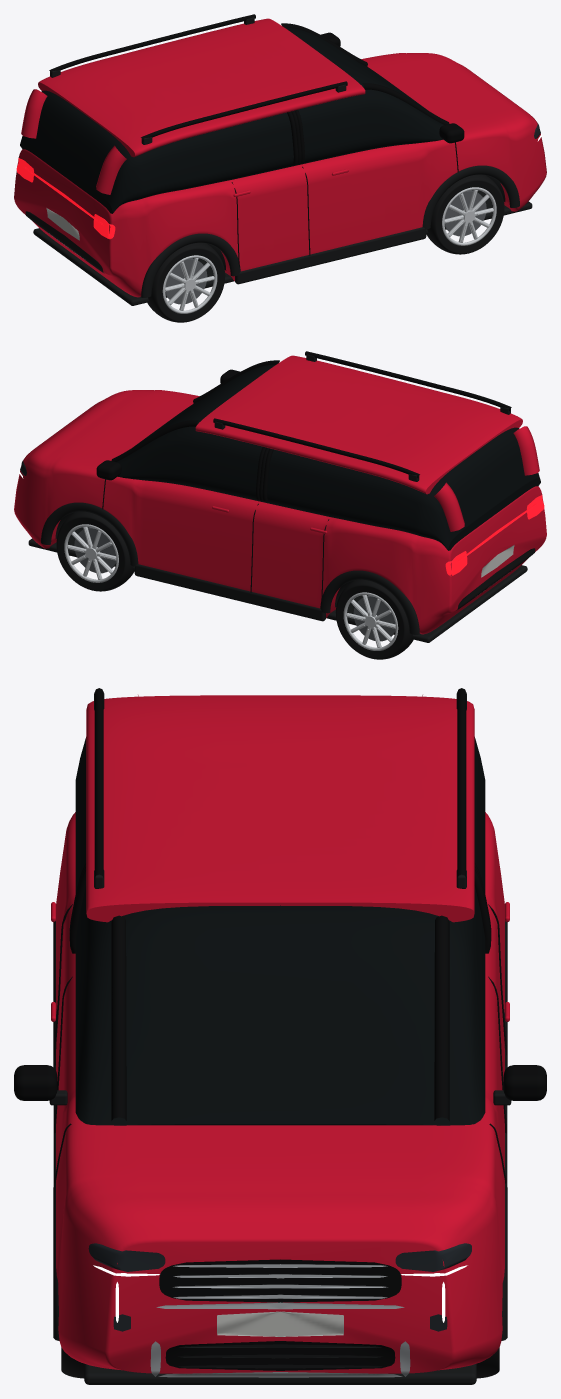
File: kia-sonet.glb
3 views of the same model, one above another, from view 1: azimuth 30°, elevation 25°; view 2: azimuth 150°, elevation 25°; view 3: azimuth 270°, elevation 25° (orthographic). The views are drawn at different scales.
Parts seen in each view (by area): view 1: Body, Glasshouse, Roof, Trim (×5), Tyre (×2), Pillar (×4), RoofRail (×2), Disc (×2), Rim (×2), GlossBlack; view 2: Body, Glasshouse, Roof, Trim (×5), Tyre (×2), Pillar (×4), RoofRail (×2), Disc (×2), Rim (×2), GlossBlack; view 3: Body, Glasshouse, Roof, GlossBlack (×4), Pillar (×2), Trim, RoofRail (×2), Plate, Headlamp (×2), Silver (×2).
Part boxes in pixels (x1=…): Body: x1=14, y1=53, x2=546, y2=297; Glasshouse: x1=20, y1=27, x2=444, y2=213; Roof: x1=38, y1=18, x2=365, y2=157; Trim (×5): x1=25, y1=165, x2=532, y2=305; Tyre (×2): x1=147, y1=174, x2=504, y2=322; Pillar (×4): x1=21, y1=23, x2=449, y2=194; RoofRail (×2): x1=49, y1=14, x2=347, y2=141; Disc (×2): x1=165, y1=190, x2=486, y2=304; Rim (×2): x1=162, y1=187, x2=496, y2=313; GlossBlack: x1=439, y1=123, x2=464, y2=143; Body: x1=14, y1=390, x2=546, y2=634; Glasshouse: x1=116, y1=364, x2=540, y2=550; Roof: x1=195, y1=355, x2=522, y2=494; Trim (×5): x1=28, y1=502, x2=535, y2=642; Tyre (×2): x1=56, y1=511, x2=413, y2=659; Pillar (×4): x1=111, y1=360, x2=539, y2=531; RoofRail (×2): x1=213, y1=351, x2=511, y2=478; Disc (×2): x1=74, y1=527, x2=395, y2=641; Rim (×2): x1=64, y1=524, x2=398, y2=650; GlossBlack: x1=96, y1=460, x2=121, y2=480; Body: x1=56, y1=812, x2=504, y2=1373; Glasshouse: x1=75, y1=737, x2=485, y2=1125; Roof: x1=86, y1=695, x2=474, y2=922; GlossBlack (×4): x1=14, y1=1065, x2=546, y2=1370; Pillar (×2): x1=111, y1=915, x2=449, y2=1120; Trim: x1=84, y1=1363, x2=476, y2=1384; RoofRail (×2): x1=94, y1=688, x2=466, y2=877; Plate: x1=217, y1=1311, x2=343, y2=1336; Headlamp (×2): x1=88, y1=1243, x2=471, y2=1271; Silver (×2): x1=156, y1=1302, x2=404, y2=1377.
Bounding box in the file's own units: 3.98 × 1.67 × 2.09.
